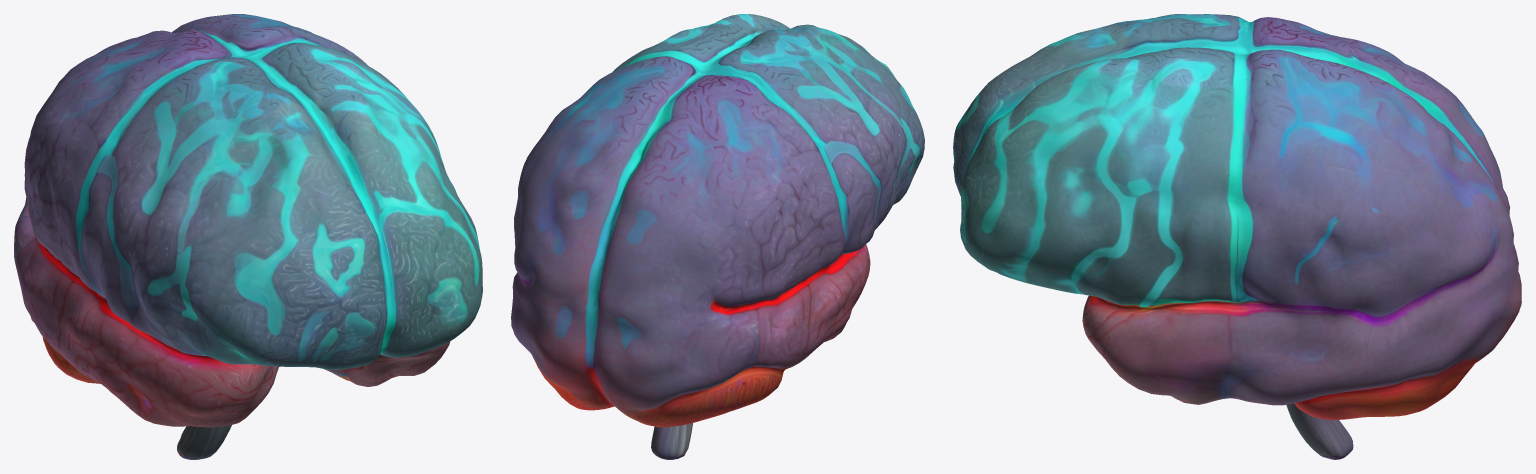
File: brainmodel.glb
The picture shows the model from 3 angles, left to right: view 1: azimuth 30°, elevation 25°; view 2: azimuth 150°, elevation 25°; view 3: azimuth 270°, elevation 25°; orthographic projection. The views are drawn at different scales.
Size of the model in its own units: 1.29 by 1.62 by 1.99.
Materials: 1 (1 with a texture image).
